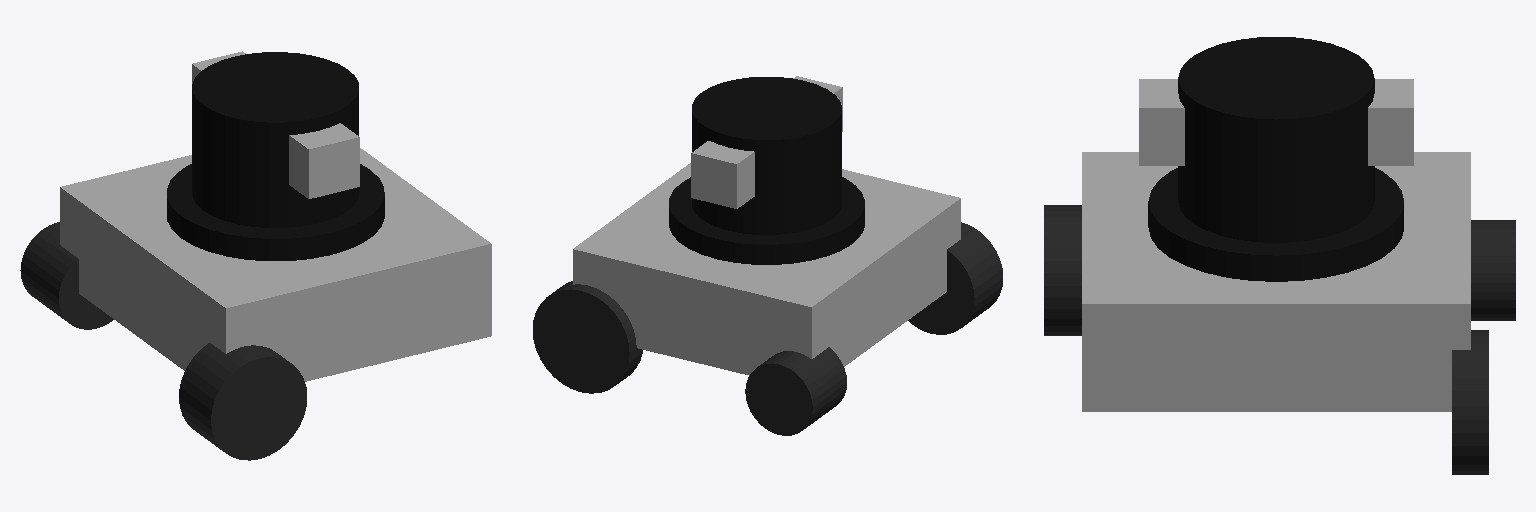
robot.urdf — evolved_robot:
<?xml version="1.0"?>
<robot name="evolved_robot">
  <material name="metal">
    <color rgba="0.7 0.7 0.7 1.0"/>
  </material>
  <material name="plastic">
    <color rgba="0.3 0.3 0.9 1.0"/>
  </material>
  <material name="rubber">
    <color rgba="0.1 0.1 0.1 1.0"/>
  </material>
  <material name="red">
    <color rgba="1.0 0.0 0.0 1.0"/>
  </material>
  <material name="wheel_material">
    <color rgba="0.2 0.2 0.2 1.0"/>
  </material>
  <link name="base_link">
    <visual>
      <geometry><box size="0.30885406755078415 0.33433320111197223 0.1030862180188385"/></geometry>
      <material name="metal"/>
    </visual>
    <collision>
      <geometry><box size="0.30885406755078415 0.33433320111197223 0.1030862180188385"/></geometry>
    </collision>
    <inertial>
      <mass value="5.0"/>
      <inertia ixx="0.10200454809267163" ixy="0" ixz="0" 
               iyy="0.08834800282340986" iyz="0" 
               izz="0.17264127034036902"/>
    </inertial>
  </link>
  <link name="link1">
    <visual>
      <geometry>
        <cylinder radius="0.06276374789163566" length="0.03204948349955457"/>
      </geometry>
      <material name="wheel_material"/>
    </visual>
    <collision>
      <geometry>
        <cylinder radius="0.06276374789163566" length="0.03204948349955457"/>
      </geometry>
    </collision>
    <inertial>
      <mass value="1.0"/>
      <inertia ixx="0.0010704194617335515" ixy="0" ixz="0" 
               iyy="0.0010704194617335515" iyz="0" 
               izz="0.0019696440247024"/>
    </inertial>
  </link>
  <joint name="joint1" type="continuous">
    <parent link="base_link"/>
    <child link="link1"/>
    <origin xyz="0.13442703377539209 0.16716660055598612 -0.05154310900941925" rpy="1.5708 0 0"/>
    <axis xyz="0 1 0"/>
    <dynamics damping="0.800080736609337" friction="0.1"/>
  </joint>
  <link name="link2">
    <visual>
      <geometry><cylinder radius="0.11009293519549607" length="0.05"/></geometry>
      <material name="rubber"/>
    </visual>
    <collision>
      <geometry><cylinder radius="0.11009293519549607" length="0.05"/></geometry>
    </collision>
    <inertial>
      <mass value="0.5"/>
      <inertia ixx="0.0032384469283232575" ixy="0" ixz="0" 
               iyy="0.0032384469283232575" iyz="0" 
               izz="0.006060227189979848"/>
    </inertial>
  </link>
  <joint name="joint2" type="revolute">
    <parent link="base_link"/>
    <child link="link2"/>
    <origin xyz="0 0 0.05154310900941925" rpy="0 0 0"/>
    <axis xyz="0.010541613143239006 0.8034662202744688 -0.5952570094255062"/>
    <dynamics damping="0.856863713544254" friction="0.1"/>
    <limit lower="-1.2667756610529117" upper="2.629439545554526" effort="100" velocity="100"/>
  </joint>
  <link name="link3">
    <visual>
      <geometry><cylinder radius="0.08443651913870599" length="0.18446132048527597"/></geometry>
      <material name="rubber"/>
    </visual>
    <collision>
      <geometry><cylinder radius="0.08443651913870599" length="0.18446132048527597"/></geometry>
    </collision>
    <inertial>
      <mass value="0.5"/>
      <inertia ixx="0.004617879670662907" ixy="0" ixz="0" 
               iyy="0.004617879670662907" iyz="0" 
               izz="0.0035647628821305318"/>
    </inertial>
  </link>
  <joint name="joint3" type="floating">
    <parent link="base_link"/>
    <child link="link3"/>
    <origin xyz="0 0 0.10154310900941925" rpy="0 0 0"/>
    <axis xyz="0.4966704444239126 0.867053655901334 0.03919728847617302"/>
    <dynamics damping="0.5866365968341491" friction="0.1"/>
  </joint>
  <link name="link4">
    <visual>
      <geometry>
        <cylinder radius="0.04364683632620496" length="0.07712029603936439"/>
      </geometry>
      <material name="wheel_material"/>
    </visual>
    <collision>
      <geometry>
        <cylinder radius="0.04364683632620496" length="0.07712029603936439"/>
      </geometry>
    </collision>
    <inertial>
      <mass value="1.0"/>
      <inertia ixx="0.0009718899187548981" ixy="0" ixz="0" 
               iyy="0.0009718899187548981" iyz="0" 
               izz="0.0009525231606432624"/>
    </inertial>
  </link>
  <joint name="joint4" type="continuous">
    <parent link="base_link"/>
    <child link="link4"/>
    <origin xyz="-0.13442703377539209 0.16716660055598612 -0.05154310900941925" rpy="1.5708 0 0"/>
    <axis xyz="0 1 0"/>
    <dynamics damping="0.4050655886768495" friction="0.1"/>
  </joint>
  <link name="link5">
    <visual>
      <geometry><box size="0.0593176866318296 0.23598735471050247 0.055380896419339465"/></geometry>
      <material name="metal"/>
    </visual>
    <collision>
      <geometry><box size="0.0593176866318296 0.23598735471050247 0.055380896419339465"/></geometry>
    </collision>
    <inertial>
      <mass value="0.5"/>
      <inertia ixx="0.004896422939289176" ixy="0" ixz="0" 
               iyy="0.0005488026362967952" iyz="0" 
               izz="0.004934051627551037"/>
    </inertial>
  </link>
  <joint name="joint5" type="floating">
    <parent link="base_link"/>
    <child link="link5"/>
    <origin xyz="0 0 0.15154310900941925" rpy="0 0 0"/>
    <axis xyz="-0.8363879706747075 -0.510825839400452 0.19877656881903408"/>
    <dynamics damping="0.6149782857398248" friction="0.1"/>
  </joint>
  <link name="link6">
    <visual>
      <geometry>
        <cylinder radius="0.056118941032870365" length="0.06478545656171525"/>
      </geometry>
      <material name="wheel_material"/>
    </visual>
    <collision>
      <geometry>
        <cylinder radius="0.056118941032870365" length="0.06478545656171525"/>
      </geometry>
    </collision>
    <inertial>
      <mass value="1.0"/>
      <inertia ixx="0.0011370968341551865" ixy="0" ixz="0" 
               iyy="0.0011370968341551865" iyz="0" 
               izz="0.0015746677713253906"/>
    </inertial>
  </link>
  <joint name="joint6" type="fixed">
    <parent link="base_link"/>
    <child link="link6"/>
    <origin xyz="-0.13442703377539209 -0.16716660055598612 -0.05154310900941925" rpy="1.5708 0 0"/>
    <axis xyz="0 1 0"/>
    <dynamics damping="0.47206363896173986" friction="0.1"/>
  </joint>
</robot>

--- Facts derived from the render (not from the file) ---
The picture shows the robot from 3 angles, left to right: view 1: azimuth 30°, elevation 25°; view 2: azimuth 150°, elevation 25°; view 3: azimuth 270°, elevation 25°; orthographic projection.
Model evolved_robot with 7 links and 6 joints (1 revolute, 2 continuous, 1 fixed, 2 floating), rooted at base_link, posed every joint at zero.
Visible links, largest first — view 1: base_link, link3, link6, link2, link5, link4; view 2: base_link, link3, link1, link2, link4, link6, link5; view 3: base_link, link3, link2, link5, link1, link6, link4.
Link boxes in pixels (box(x1,y1,x2,y2)): base_link: box(60, 148, 491, 381); link3: box(192, 52, 358, 227); link6: box(179, 343, 306, 460); link2: box(167, 164, 384, 260); link5: box(192, 51, 359, 198); link4: box(20, 222, 113, 329); base_link: box(573, 163, 960, 375); link3: box(692, 77, 841, 234); link1: box(533, 281, 642, 393); link2: box(669, 177, 864, 264); link4: box(745, 347, 846, 435); link6: box(908, 222, 1002, 334); link5: box(691, 76, 842, 208); base_link: box(1082, 152, 1470, 411); link3: box(1178, 37, 1374, 242); link2: box(1148, 168, 1403, 281); link5: box(1139, 79, 1413, 165); link1: box(1452, 330, 1488, 474); link6: box(1044, 205, 1081, 335); link4: box(1471, 220, 1515, 320).
Bounding box of the posed robot: 0.3877 × 0.4053 × 0.3081 m (x, y, z).
Geometry: primitives only (box / cylinder / sphere), no mesh files.